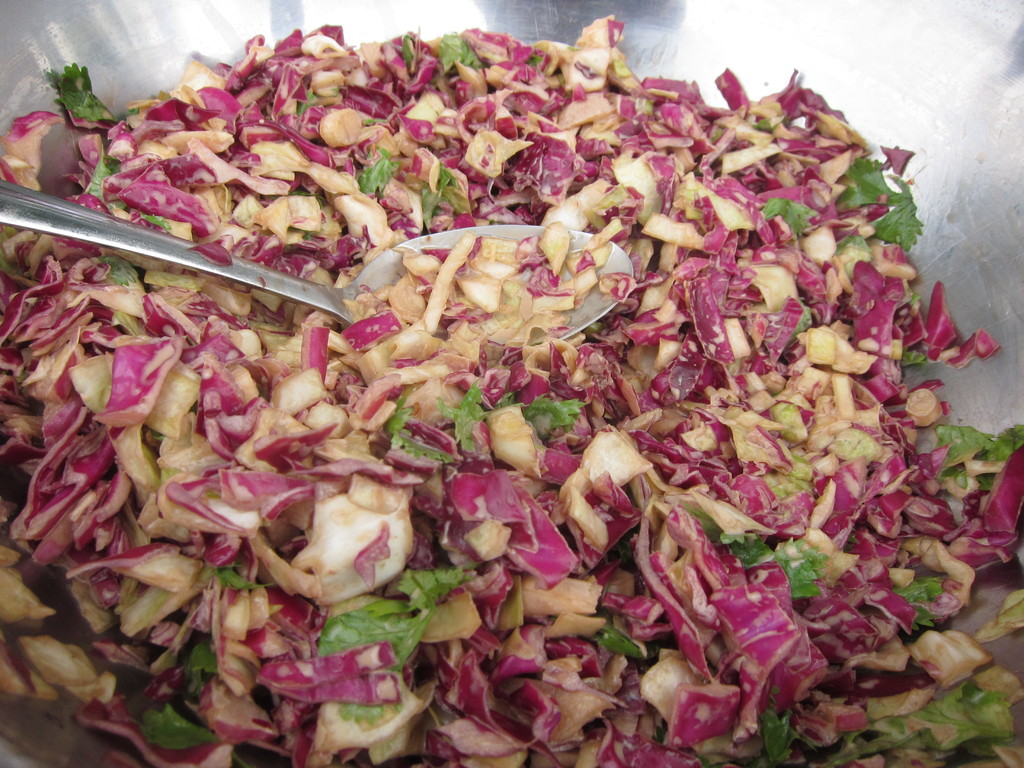Cabbage: (0, 15, 1024, 768)
